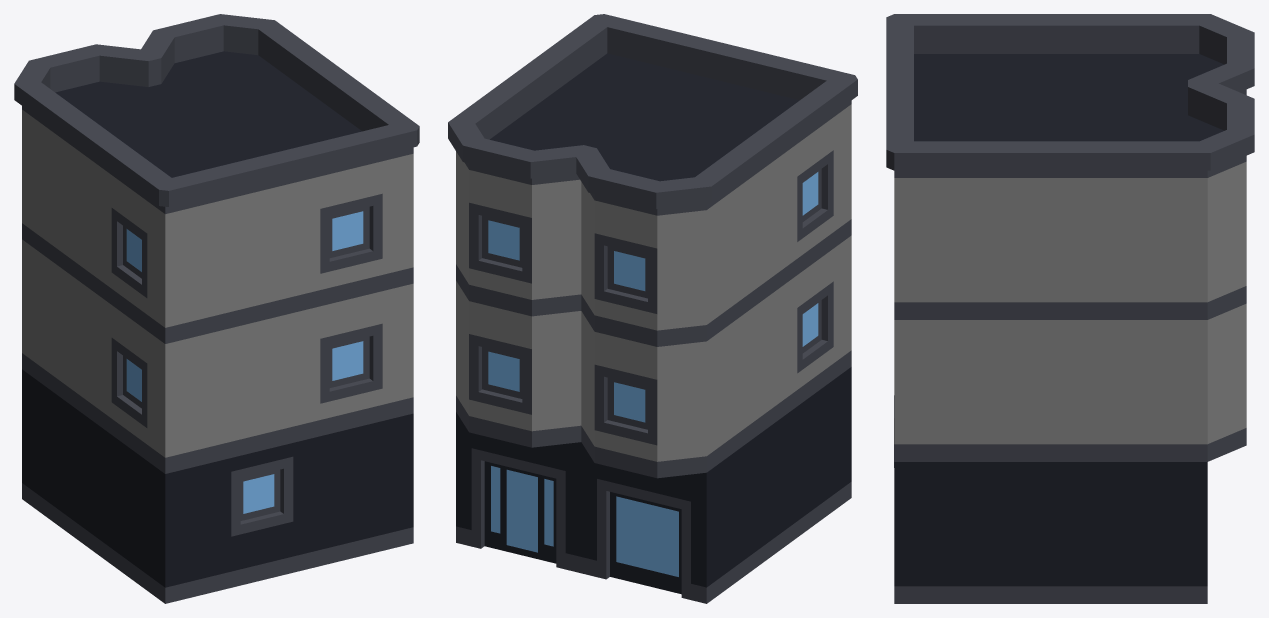
Rendered from variant_19.obj.
The picture shows the model from 3 angles, left to right: view 1: azimuth 30°, elevation 25°; view 2: azimuth 150°, elevation 25°; view 3: azimuth 270°, elevation 25°; orthographic projection. The views are drawn at different scales.
Parts seen in each view (by area): view 1: Building_copy, Window_copy; view 2: Building_copy; view 3: Building_copy.
Part boxes in pixels (box(x1,y1,x2,y2)): Building_copy: box(14, 14, 419, 603); Window_copy: box(231, 456, 293, 536); Building_copy: box(448, 14, 857, 603); Building_copy: box(886, 14, 1254, 603).
Bounding box in the file's own units: 0.84 × 1.28 × 0.94.
